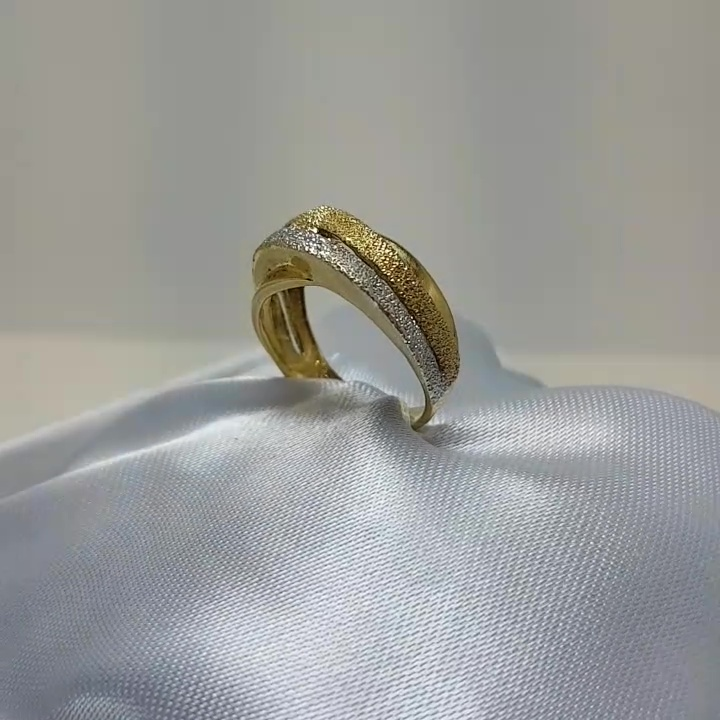Ring 5: (234, 193, 474, 460)
